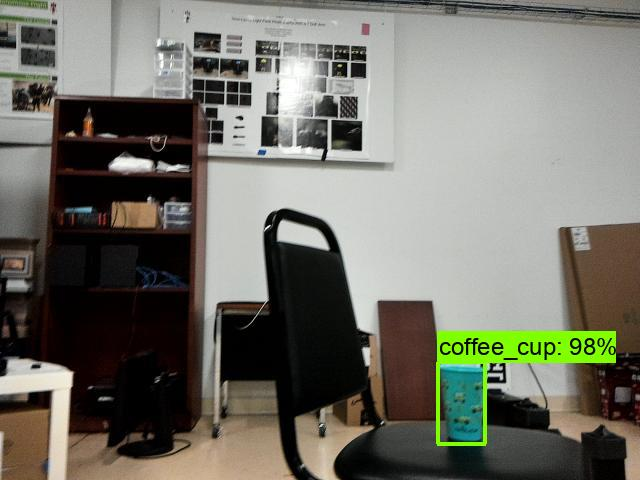coffee_cup: (437, 364, 486, 442)
